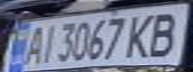0: (72, 17, 93, 62)
3: (54, 19, 78, 63)
6: (87, 16, 112, 61)
7: (103, 14, 130, 61)
A: (18, 23, 48, 66)
B: (142, 7, 190, 57)
I: (36, 20, 60, 64)
K: (124, 10, 163, 60)
